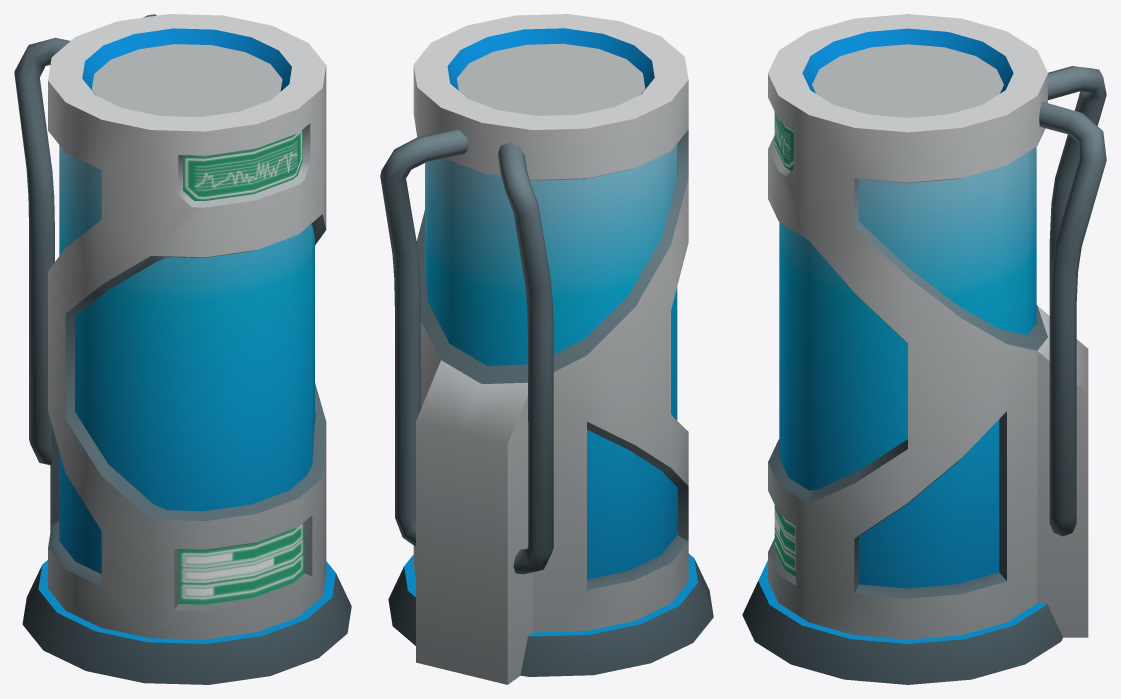
3 renders of one model, left to right at view 1: azimuth 30°, elevation 25°; view 2: azimuth 150°, elevation 25°; view 3: azimuth 270°, elevation 25°, orthographic.
Visible parts, largest first — view 1: Сapsule_007; view 2: Сapsule_007; view 3: Сapsule_007.
Boxes of the visible parts, <box> form: Сapsule_007: <box>14,14,351,684</box>; Сapsule_007: <box>380,14,713,684</box>; Сapsule_007: <box>742,14,1106,684</box>.
Bounding box in the file's own units: 148 × 162 × 266.
